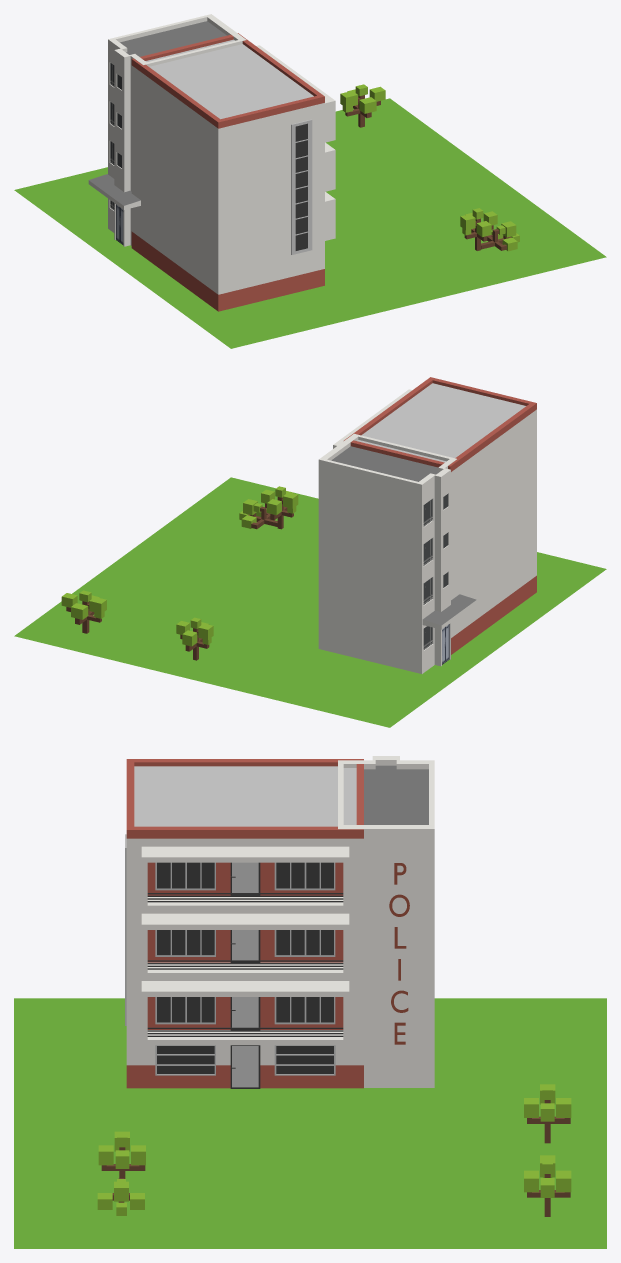
File: police_general_command.glb
3 views of the same model, one above another, from view 1: azimuth 30°, elevation 25°; view 2: azimuth 150°, elevation 25°; view 3: azimuth 270°, elevation 25° (orthographic). The views are drawn at different scales.
Parts seen in each view (by area): view 1: Building_Residential_color01_Cube.013, Road Concrete Tile_Plane.010, Building Sky_small_color01_Cube.028, Natures_Cube Tree_Cube.001, Natures_Cube Tree_Cube.017, Natures_Cube Tree_Cube.003; view 2: Road Concrete Tile_Plane.010, Building Sky_small_color01_Cube.028, Building_Residential_color01_Cube.013, Natures_Cube Tree_Cube.001, Natures_Cube Tree_Cube.017, Natures_Cube Tree_Cube.002, Natures_Cube Tree_Cube.003; view 3: Road Concrete Tile_Plane.010, Building_Residential_color01_Cube.013, Building Sky_small_color01_Cube.028, Natures_Cube Tree_Cube.001, Natures_Cube Tree_Cube.002, Natures_Cube Tree_Cube.017, Natures_Cube Tree_Cube.003, Text.
Part boxes in pixels (x1=…): Building_Residential_color01_Cube.013: x1=131, y1=33, x2=335, y2=311; Road Concrete Tile_Plane.010: x1=14, y1=98, x2=606, y2=348; Building Sky_small_color01_Cube.028: x1=88, y1=14, x2=246, y2=246; Natures_Cube Tree_Cube.001: x1=340, y1=84, x2=385, y2=127; Natures_Cube Tree_Cube.017: x1=460, y1=208, x2=497, y2=250; Natures_Cube Tree_Cube.003: x1=481, y1=221, x2=519, y2=251; Road Concrete Tile_Plane.010: x1=14, y1=477, x2=606, y2=727; Building Sky_small_color01_Cube.028: x1=318, y1=433, x2=476, y2=673; Building_Residential_color01_Cube.013: x1=333, y1=377, x2=536, y2=654; Natures_Cube Tree_Cube.001: x1=61, y1=590, x2=106, y2=633; Natures_Cube Tree_Cube.017: x1=261, y1=486, x2=298, y2=529; Natures_Cube Tree_Cube.002: x1=176, y1=617, x2=213, y2=660; Natures_Cube Tree_Cube.003: x1=239, y1=499, x2=277, y2=529; Road Concrete Tile_Plane.010: x1=14, y1=998, x2=606, y2=1248; Building_Residential_color01_Cube.013: x1=125, y1=759, x2=363, y2=1088; Building Sky_small_color01_Cube.028: x1=338, y1=756, x2=434, y2=1087; Natures_Cube Tree_Cube.001: x1=524, y1=1155, x2=571, y2=1216; Natures_Cube Tree_Cube.002: x1=524, y1=1084, x2=571, y2=1143; Natures_Cube Tree_Cube.017: x1=98, y1=1131, x2=145, y2=1178; Natures_Cube Tree_Cube.003: x1=97, y1=1178, x2=144, y2=1215; Text: x1=389, y1=863, x2=409, y2=1044.
Bounding box in the file's own units: 40 × 20.79 × 40.
6 materials, 4 textured.
